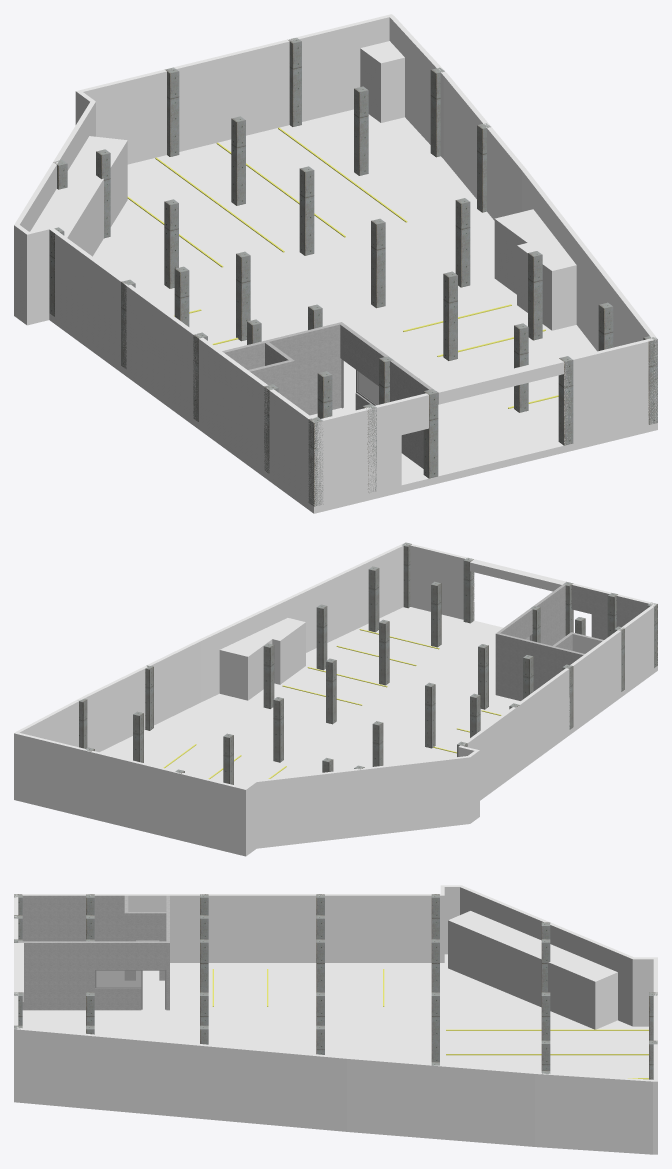
File: planta-baja.glb
The picture shows the model from 3 angles, top to bottom: view 1: azimuth 30°, elevation 25°; view 2: azimuth 150°, elevation 25°; view 3: azimuth 270°, elevation 25°; orthographic projection. The views are drawn at different scales.
Parts seen in each view (by area): view 1: E1; view 2: E1; view 3: E1.
Part boxes in pixels (x1,y1,x2,y2): E1: (14, 14, 657, 513); E1: (14, 542, 657, 856); E1: (14, 885, 657, 1154).
Bounding box in the file's own units: 21.89 × 3.8 × 30.35.
Materials: 9 (2 with a texture image).
